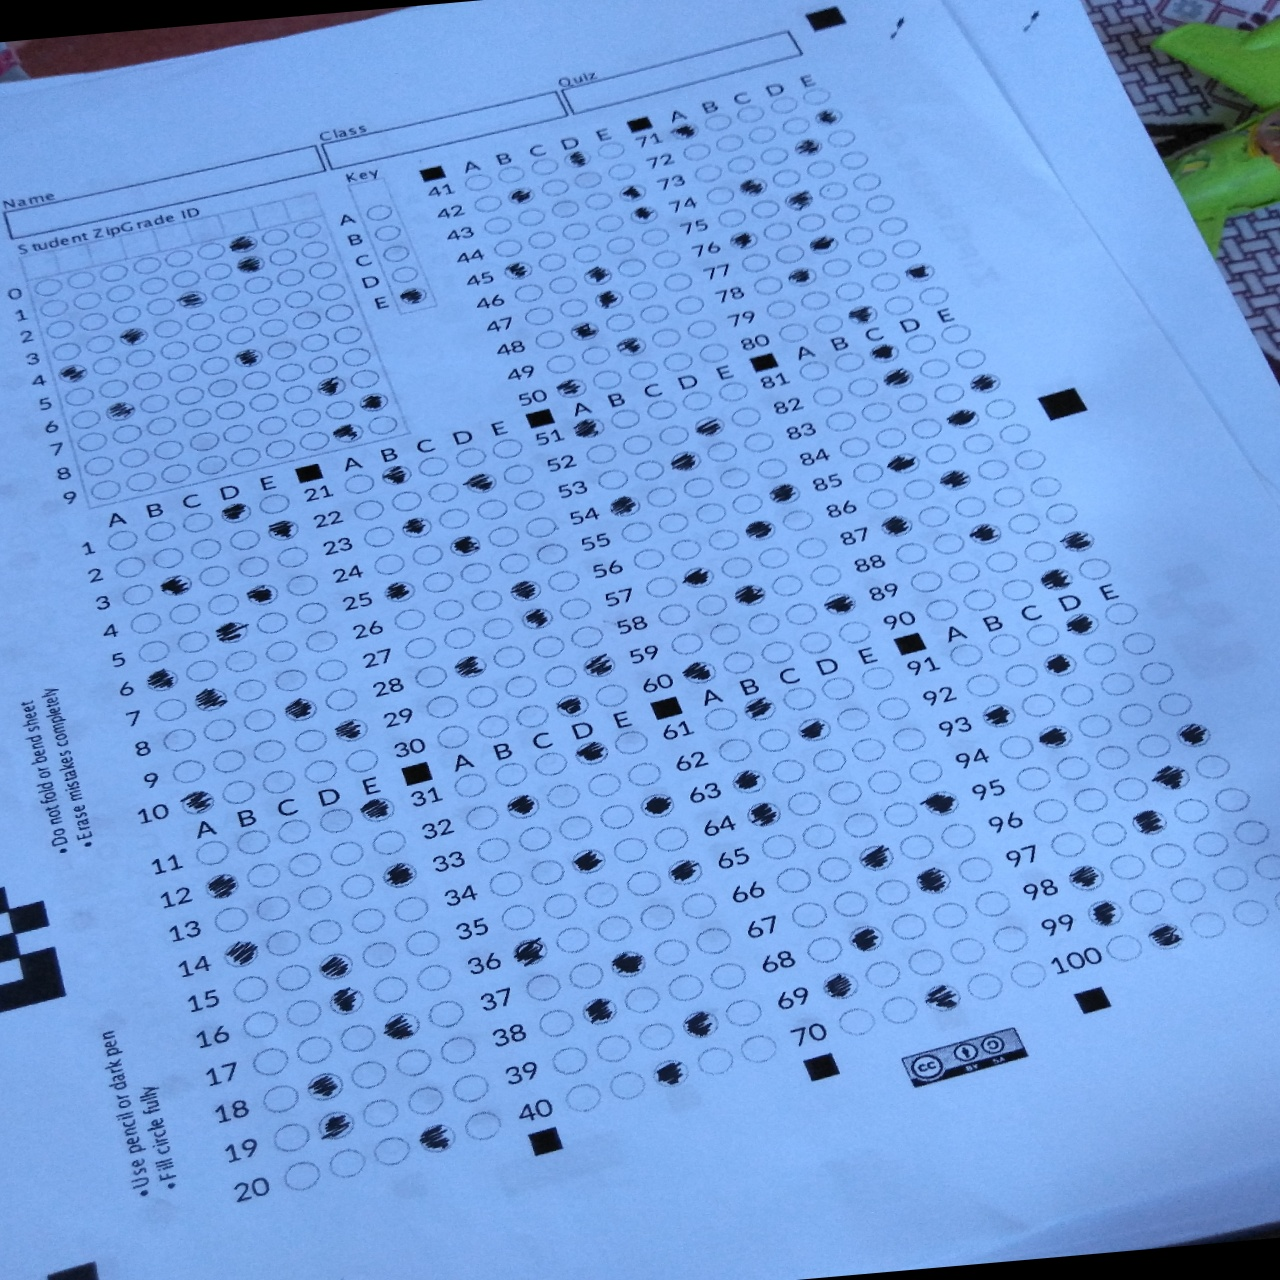not-c: (594, 1032, 636, 1065), (450, 1073, 492, 1107), (392, 1046, 434, 1080), (738, 1032, 779, 1065), (348, 903, 389, 937), (358, 937, 399, 971), (272, 1121, 313, 1155), (210, 903, 251, 937), (651, 937, 693, 969), (708, 959, 750, 992), (663, 969, 706, 1002), (722, 996, 764, 1029), (436, 1034, 478, 1067), (402, 927, 444, 960), (349, 1058, 392, 1091), (406, 1085, 448, 1118), (358, 1096, 400, 1129), (250, 1046, 292, 1078), (281, 1160, 324, 1193), (230, 973, 272, 1006), (295, 881, 338, 914), (325, 838, 367, 871), (369, 828, 411, 860), (252, 893, 294, 926), (190, 837, 232, 870), (273, 816, 315, 849), (1228, 896, 1271, 928), (964, 971, 1006, 1003), (862, 958, 904, 990), (285, 847, 325, 881), (693, 925, 734, 958), (535, 1007, 576, 1040), (549, 1044, 590, 1077), (695, 1044, 736, 1077), (462, 1109, 503, 1142), (425, 996, 467, 1029), (411, 962, 452, 995), (392, 894, 433, 927), (370, 973, 411, 1006), (338, 1021, 379, 1054), (327, 1148, 368, 1180), (239, 1008, 280, 1041), (274, 962, 315, 995), (233, 826, 274, 859), (316, 804, 358, 837), (1102, 931, 1143, 964), (1008, 958, 1049, 990), (836, 1006, 877, 1039), (990, 922, 1032, 955), (887, 911, 930, 942), (803, 934, 845, 966), (872, 878, 914, 910), (621, 982, 661, 1015), (372, 1133, 411, 1166), (263, 927, 302, 960), (338, 871, 377, 904), (636, 1021, 678, 1053), (561, 1082, 602, 1114), (259, 1082, 300, 1114), (294, 1035, 335, 1067), (284, 998, 325, 1029), (241, 859, 282, 891), (1210, 862, 1251, 893), (1167, 873, 1208, 905), (1126, 885, 1167, 917), (1187, 908, 1228, 940), (905, 946, 946, 978), (971, 888, 1012, 920), (930, 898, 971, 930), (788, 898, 829, 930), (830, 887, 871, 919), (955, 855, 996, 886), (939, 821, 980, 852), (896, 830, 937, 862), (612, 727, 651, 760), (606, 1069, 646, 1101), (305, 915, 345, 947), (878, 995, 918, 1027), (947, 934, 987, 966), (527, 857, 566, 888), (680, 891, 719, 922), (1032, 795, 1071, 825), (1171, 796, 1211, 826), (542, 890, 579, 921), (517, 823, 554, 855), (532, 749, 570, 781), (544, 779, 581, 811), (613, 835, 651, 866), (554, 925, 592, 956), (583, 879, 621, 910), (624, 869, 662, 899), (652, 824, 690, 855), (769, 756, 808, 787), (1047, 830, 1087, 859), (815, 855, 855, 884), (774, 865, 813, 894), (799, 822, 839, 851), (840, 811, 880, 840), (881, 799, 921, 829), (849, 735, 888, 764), (890, 726, 930, 755), (858, 663, 898, 693), (492, 760, 530, 790), (599, 802, 636, 832), (585, 770, 622, 801), (1116, 700, 1155, 729), (1094, 743, 1132, 772), (1133, 731, 1172, 761), (1014, 764, 1053, 794), (1110, 774, 1149, 803), (1089, 818, 1128, 847), (1191, 829, 1230, 858), (905, 757, 944, 787), (865, 768, 904, 797), (785, 789, 824, 818), (874, 695, 913, 724), (756, 726, 795, 755), (1070, 787, 1110, 815), (1149, 840, 1189, 869), (760, 833, 799, 862), (824, 779, 864, 808), (779, 685, 819, 713), (501, 901, 537, 932), (595, 912, 632, 942), (567, 960, 604, 990), (525, 972, 561, 1002), (557, 813, 594, 843), (625, 760, 662, 789), (998, 733, 1035, 762), (716, 735, 754, 764), (702, 704, 740, 734), (821, 674, 858, 703), (639, 901, 678, 930), (1075, 712, 1114, 740), (1054, 755, 1092, 783), (1212, 785, 1251, 813), (1108, 853, 1146, 881), (809, 745, 847, 774), (833, 704, 872, 733), (962, 585, 998, 615), (835, 618, 871, 647), (720, 647, 756, 676), (707, 619, 743, 648), (999, 576, 1036, 604), (797, 629, 835, 658), (693, 590, 730, 618), (667, 536, 704, 564), (618, 519, 655, 547), (415, 452, 452, 481), (418, 567, 456, 595), (530, 633, 567, 661), (312, 656, 349, 685), (184, 656, 222, 685), (1097, 669, 1135, 697), (1233, 818, 1271, 846), (1080, 640, 1118, 667), (1156, 690, 1194, 717), (745, 610, 781, 639), (760, 639, 796, 667), (783, 600, 819, 628), (669, 629, 706, 658), (781, 506, 817, 535), (756, 544, 792, 572), (753, 455, 789, 483), (644, 482, 680, 510), (655, 422, 692, 450), (716, 377, 753, 406), (679, 386, 715, 414), (341, 470, 377, 498), (388, 486, 424, 515), (424, 479, 461, 508), (475, 496, 511, 524), (361, 522, 397, 550), (496, 549, 532, 577), (393, 605, 429, 633), (430, 595, 467, 624), (513, 703, 550, 731), (503, 673, 539, 701), (401, 634, 437, 662), (436, 723, 472, 751), (250, 737, 286, 765), (241, 707, 278, 735), (202, 717, 238, 745), (120, 580, 156, 608), (142, 517, 178, 545), (205, 591, 241, 619), (196, 563, 232, 591), (224, 525, 260, 553), (274, 542, 311, 570), (464, 802, 501, 830), (476, 836, 512, 864), (1058, 681, 1095, 709), (794, 535, 831, 561), (706, 527, 743, 554), (680, 474, 717, 501), (583, 441, 620, 468), (740, 428, 777, 455), (511, 488, 549, 515), (474, 712, 511, 738), (545, 568, 583, 595), (257, 491, 294, 518), (488, 870, 525, 897), (986, 631, 1023, 658), (947, 641, 985, 668), (1002, 662, 1040, 689), (1193, 753, 1231, 779), (644, 574, 679, 602), (730, 490, 765, 518), (501, 461, 536, 489), (370, 551, 406, 579), (302, 758, 338, 787), (261, 769, 297, 797), (263, 638, 298, 666), (113, 553, 148, 581), (924, 595, 960, 622), (769, 573, 805, 600), (808, 561, 844, 588), (629, 546, 666, 573), (693, 501, 729, 527), (629, 457, 666, 484), (618, 431, 654, 458), (727, 406, 763, 433), (644, 396, 680, 423), (490, 435, 526, 462), (350, 496, 387, 523), (437, 505, 474, 532), (410, 542, 447, 568), (523, 515, 559, 542), (457, 560, 493, 587), (441, 624, 477, 651), (464, 683, 501, 710), (491, 644, 527, 670), (469, 587, 505, 614), (557, 595, 593, 622), (568, 624, 605, 651), (594, 682, 631, 709), (543, 663, 579, 690), (414, 663, 450, 690), (423, 693, 459, 720), (343, 748, 380, 775), (292, 728, 328, 755), (210, 747, 246, 774), (162, 726, 198, 753), (170, 760, 206, 787), (324, 687, 360, 714), (273, 667, 309, 694), (155, 697, 191, 724), (223, 648, 259, 675), (302, 628, 339, 655), (175, 629, 211, 656), (137, 636, 173, 663), (129, 610, 165, 636), (103, 527, 139, 554), (150, 545, 186, 572), (188, 536, 224, 563), (179, 508, 216, 535), (236, 553, 272, 580), (285, 572, 321, 599), (1121, 629, 1157, 656), (1024, 621, 1061, 648), (1138, 659, 1175, 686), (964, 672, 1001, 697), (1017, 693, 1055, 719), (917, 356, 952, 383), (809, 382, 844, 409), (893, 539, 928, 566), (1077, 554, 1112, 581), (658, 602, 693, 629), (719, 554, 754, 581), (704, 440, 740, 467), (717, 465, 753, 492), (656, 508, 692, 535), (594, 467, 629, 493), (608, 404, 644, 431), (452, 444, 488, 471), (485, 524, 520, 551), (535, 540, 570, 567), (479, 617, 515, 644), (222, 779, 257, 806), (233, 678, 268, 704), (295, 599, 331, 626), (256, 610, 291, 636), (166, 600, 202, 627), (451, 771, 486, 798), (910, 416, 944, 443), (836, 433, 870, 459), (859, 399, 893, 425), (797, 358, 831, 384), (954, 346, 989, 372), (1012, 445, 1047, 471), (1027, 474, 1062, 499), (1043, 501, 1078, 526), (953, 495, 988, 520), (901, 476, 937, 502), (961, 431, 996, 457), (922, 441, 958, 467), (256, 413, 290, 438), (290, 406, 324, 431), (306, 352, 340, 377), (195, 452, 229, 478), (602, 309, 636, 335), (851, 459, 885, 485), (874, 425, 908, 451), (824, 409, 858, 435), (896, 390, 930, 416), (933, 381, 967, 407), (904, 331, 938, 356), (833, 350, 867, 376), (845, 375, 879, 401), (931, 531, 965, 557), (947, 558, 981, 584), (985, 550, 1019, 576), (1024, 538, 1058, 564), (908, 568, 942, 594), (1103, 601, 1137, 627), (537, 250, 571, 275), (917, 282, 952, 307), (776, 319, 811, 343), (939, 321, 974, 346), (1006, 511, 1041, 536), (864, 486, 899, 511), (975, 457, 1010, 482), (84, 331, 117, 356), (615, 256, 648, 281), (281, 383, 315, 408), (273, 361, 307, 386), (298, 331, 332, 355), (636, 302, 670, 327), (547, 273, 581, 298), (525, 229, 559, 253), (559, 220, 593, 245), (583, 189, 617, 213), (495, 163, 529, 188), (888, 236, 922, 260), (812, 311, 846, 335), (819, 256, 853, 280), (990, 483, 1024, 508), (915, 503, 949, 527), (617, 182, 651, 206), (561, 147, 595, 171), (881, 293, 917, 316), (996, 422, 1032, 445), (184, 309, 217, 334), (150, 316, 183, 341), (192, 331, 225, 355), (52, 339, 84, 363), (70, 407, 103, 431), (159, 462, 192, 486), (649, 326, 682, 350), (628, 203, 661, 227), (570, 241, 602, 266), (572, 168, 605, 192), (605, 159, 638, 184), (538, 176, 571, 200), (549, 197, 581, 222), (257, 316, 291, 340), (250, 295, 284, 319), (229, 445, 263, 469), (685, 319, 719, 342), (626, 279, 660, 302), (829, 202, 863, 225), (794, 211, 828, 234), (753, 273, 787, 297), (765, 297, 799, 320), (983, 397, 1017, 421), (266, 339, 298, 363), (125, 345, 157, 369), (545, 352, 577, 376), (661, 271, 693, 295), (45, 318, 77, 341), (306, 258, 339, 281), (282, 287, 315, 311), (158, 338, 191, 361), (90, 353, 123, 376), (130, 369, 163, 393), (198, 354, 231, 377), (181, 406, 213, 429), (111, 422, 144, 445), (82, 454, 115, 477), (118, 445, 151, 469), (222, 422, 254, 445), (125, 470, 158, 493), (590, 368, 622, 392), (557, 297, 590, 320), (593, 211, 626, 234), (604, 233, 636, 257), (638, 225, 670, 248), (673, 293, 706, 316), (515, 205, 547, 229), (740, 252, 772, 275), (833, 279, 866, 302), (869, 270, 901, 293), (506, 184, 539, 207), (1253, 852, 1280, 880), (224, 324, 258, 346), (164, 362, 198, 384), (481, 215, 515, 237), (863, 193, 897, 216), (772, 243, 806, 265), (855, 247, 888, 270), (77, 311, 109, 334), (248, 390, 280, 414), (145, 414, 177, 437), (76, 430, 108, 454), (389, 263, 421, 286), (529, 155, 560, 178), (781, 114, 812, 137), (877, 215, 908, 238), (109, 304, 142, 326), (241, 274, 274, 297), (266, 246, 299, 268), (291, 219, 324, 241), (332, 324, 365, 346), (339, 346, 372, 368), (366, 414, 399, 436), (298, 430, 331, 452), (264, 437, 297, 459), (290, 308, 322, 331), (98, 377, 131, 400), (63, 384, 96, 407), (137, 392, 170, 414), (205, 376, 238, 399), (240, 369, 273, 392), (215, 399, 247, 421), (188, 430, 220, 452), (89, 479, 122, 502), (372, 223, 404, 245), (462, 172, 495, 195), (471, 192, 504, 215), (491, 238, 524, 260), (512, 281, 545, 304), (579, 343, 612, 366), (626, 360, 659, 382), (697, 342, 730, 365), (651, 248, 683, 271), (799, 290, 832, 312), (842, 224, 874, 246), (761, 220, 795, 241), (747, 122, 777, 145), (806, 157, 837, 181), (210, 281, 241, 304), (274, 267, 306, 290), (259, 226, 291, 248), (324, 301, 355, 324), (349, 368, 381, 390), (218, 302, 250, 325), (172, 384, 204, 407), (152, 438, 184, 461), (363, 200, 395, 223), (380, 241, 411, 264), (523, 304, 554, 326), (768, 95, 799, 117), (693, 163, 724, 185), (760, 144, 791, 166), (838, 149, 870, 171), (32, 277, 64, 298), (195, 241, 227, 263), (202, 261, 234, 282), (138, 275, 171, 297), (72, 291, 104, 312), (315, 281, 348, 302), (324, 399, 356, 420), (533, 329, 566, 350), (826, 127, 856, 150), (300, 239, 331, 261), (662, 350, 693, 373), (702, 111, 733, 134), (735, 102, 765, 124), (801, 86, 831, 108), (682, 141, 713, 163), (726, 154, 756, 176), (770, 166, 801, 189), (704, 184, 735, 206), (716, 206, 747, 229), (851, 171, 881, 193), (144, 297, 176, 318), (594, 139, 626, 161), (713, 132, 744, 154), (97, 263, 130, 282), (39, 298, 72, 318), (750, 199, 779, 222), (818, 181, 847, 203), (171, 268, 202, 290), (64, 271, 96, 291), (132, 256, 164, 275), (163, 248, 195, 268), (105, 284, 136, 304), (1269, 885, 1280, 917)
taken-c: (304, 1068, 346, 1104), (607, 947, 651, 982), (651, 1055, 692, 1091), (416, 1121, 458, 1156), (679, 1008, 721, 1043), (510, 935, 552, 971), (581, 994, 622, 1029), (315, 1107, 358, 1141), (1064, 862, 1107, 896), (1173, 717, 1216, 751), (912, 865, 955, 898), (818, 969, 862, 1002), (855, 842, 897, 874), (845, 921, 887, 954), (921, 983, 964, 1016), (1144, 919, 1186, 952), (1128, 805, 1170, 838), (1152, 762, 1194, 795), (327, 983, 366, 1019), (665, 856, 706, 888), (1085, 897, 1126, 930), (552, 692, 594, 723), (316, 951, 356, 983), (382, 1010, 422, 1043), (920, 788, 960, 821), (568, 845, 610, 877), (450, 652, 491, 683), (222, 938, 261, 969), (638, 791, 678, 823), (729, 765, 769, 797), (571, 738, 612, 769), (200, 871, 240, 901), (581, 651, 621, 681), (743, 798, 783, 829), (874, 511, 915, 540), (933, 467, 973, 496), (883, 450, 922, 479), (944, 406, 983, 435), (741, 694, 778, 724), (797, 715, 835, 745), (1035, 722, 1073, 753), (980, 701, 1017, 731), (1039, 564, 1077, 593), (965, 370, 1005, 399), (382, 862, 420, 891), (508, 577, 545, 606), (503, 791, 542, 819), (462, 470, 501, 498), (1040, 649, 1078, 678), (1058, 527, 1098, 554), (381, 461, 417, 490), (1065, 608, 1102, 638), (680, 658, 717, 686), (967, 520, 1005, 549), (866, 340, 904, 368), (361, 795, 397, 823), (382, 577, 418, 605), (445, 533, 482, 561), (570, 414, 606, 442), (692, 411, 728, 440), (822, 590, 858, 618), (881, 365, 919, 392), (195, 686, 230, 714), (519, 605, 554, 633), (144, 666, 181, 693), (332, 717, 368, 744), (179, 789, 216, 816), (399, 515, 435, 542), (553, 375, 590, 402), (667, 448, 703, 475), (765, 481, 802, 508), (680, 564, 716, 591), (281, 697, 316, 724), (244, 583, 280, 608), (613, 334, 649, 360), (566, 319, 602, 345), (606, 493, 642, 519), (743, 517, 779, 543), (844, 302, 880, 328), (804, 232, 840, 258), (734, 175, 770, 200), (159, 573, 195, 599), (215, 619, 250, 645), (731, 581, 767, 607), (724, 229, 760, 254), (781, 188, 816, 213), (812, 104, 847, 130), (784, 265, 821, 290), (790, 135, 826, 159), (590, 287, 624, 313), (581, 264, 615, 290), (501, 257, 535, 282), (499, 257, 533, 282), (901, 260, 937, 285), (331, 421, 365, 445), (219, 501, 252, 525), (356, 389, 390, 413), (397, 284, 429, 308), (118, 324, 150, 348), (233, 345, 265, 369), (314, 375, 347, 399), (267, 518, 300, 542), (59, 360, 89, 384), (105, 399, 136, 423), (227, 232, 259, 256), (236, 252, 267, 275), (176, 288, 207, 312), (668, 120, 700, 143)
